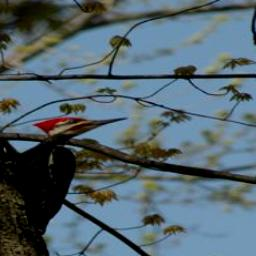Woodpecker: (0, 114, 135, 236)
